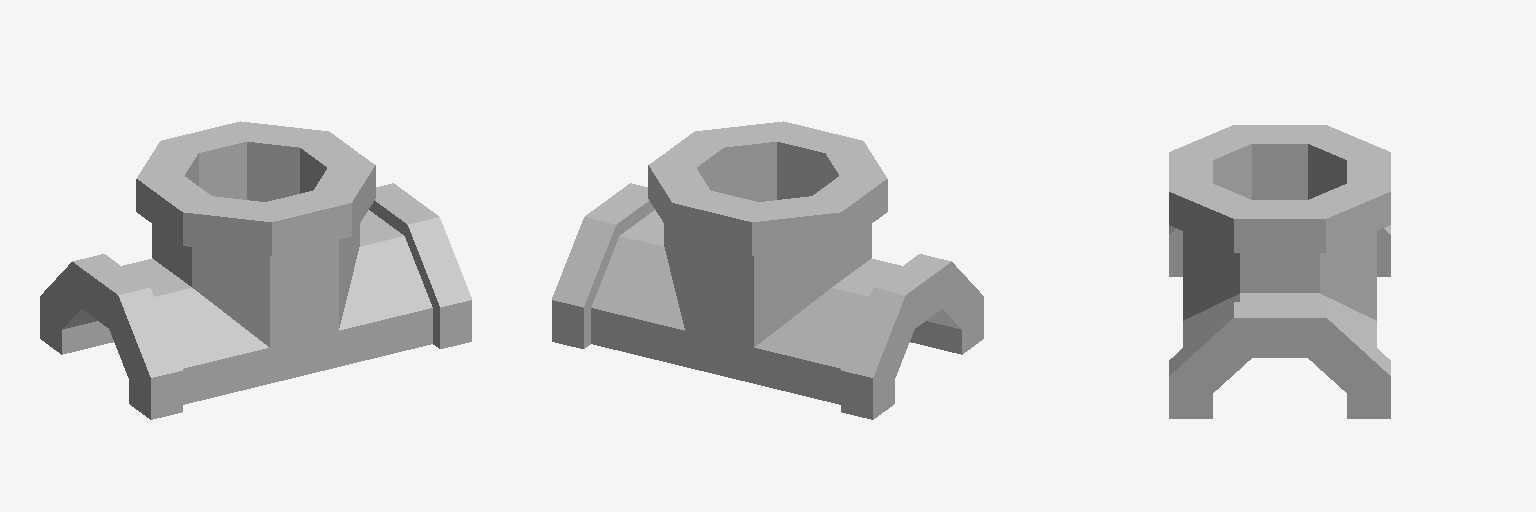
File: Upgraded Drain Pipe - Straight.obj.obj
3 renders of one model, left to right at view 1: azimuth 30°, elevation 25°; view 2: azimuth 150°, elevation 25°; view 3: azimuth 270°, elevation 25°, orthographic.
Parts seen in each view (by area): view 1: Upgraded_Drain_Pipe_-_Straight; view 2: Upgraded_Drain_Pipe_-_Straight; view 3: Upgraded_Drain_Pipe_-_Straight.
Boxes of the visible parts, box(x1,y1,x2,y2) form: Upgraded_Drain_Pipe_-_Straight: box(40, 121, 471, 419); Upgraded_Drain_Pipe_-_Straight: box(552, 121, 983, 419); Upgraded_Drain_Pipe_-_Straight: box(1169, 125, 1390, 418).
Bounding box in the file's own units: 1 × 0.5 × 0.6.